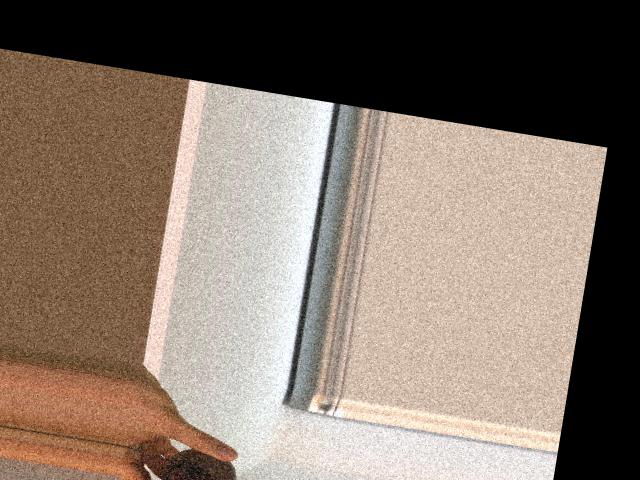beet: (116, 436, 241, 480)
